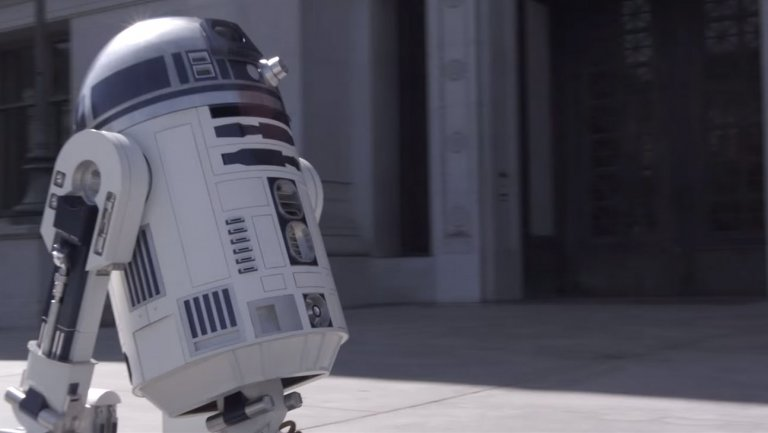r2d2: (4, 16, 351, 433)
